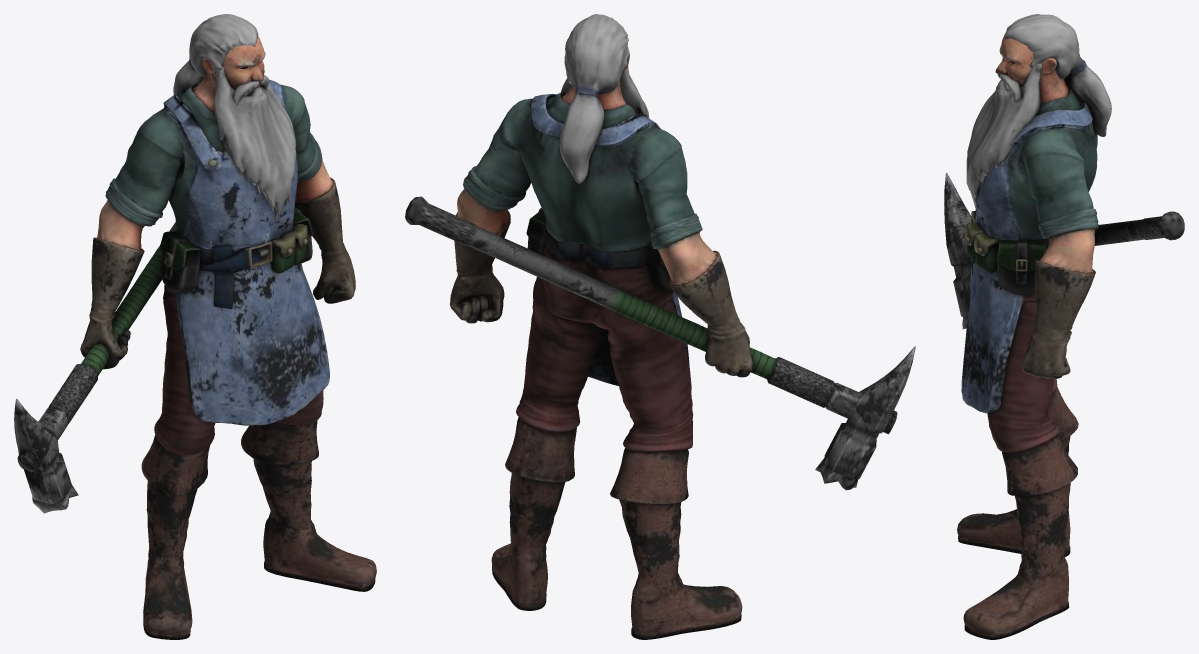
Rendered from MZ4250 - Human Male Blacksmith_3.glb.
3 views of the same model, side by side, from view 1: azimuth 30°, elevation 25°; view 2: azimuth 150°, elevation 25°; view 3: azimuth 270°, elevation 25° (orthographic). The views are drawn at different scales.
Parts seen in each view (by area): view 1: Body.002; view 2: Body.002; view 3: Body.002.
Boxes of the visible parts, x1,y1,x2,y2 form: Body.002: (14,14,376,639); Body.002: (405,14,915,639); Body.002: (944,14,1184,639).
Bounding box in the file's own units: 0.6518 × 0.9113 × 0.3525.
Materials: 1 (1 with a texture image).
